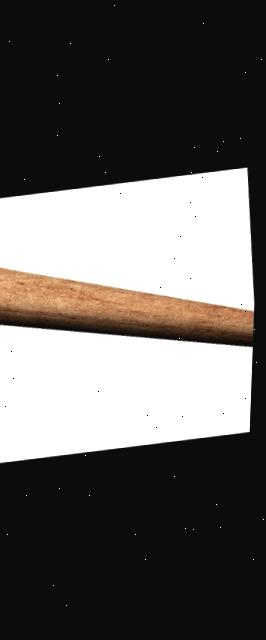baseball bat: (0, 168, 261, 444)
